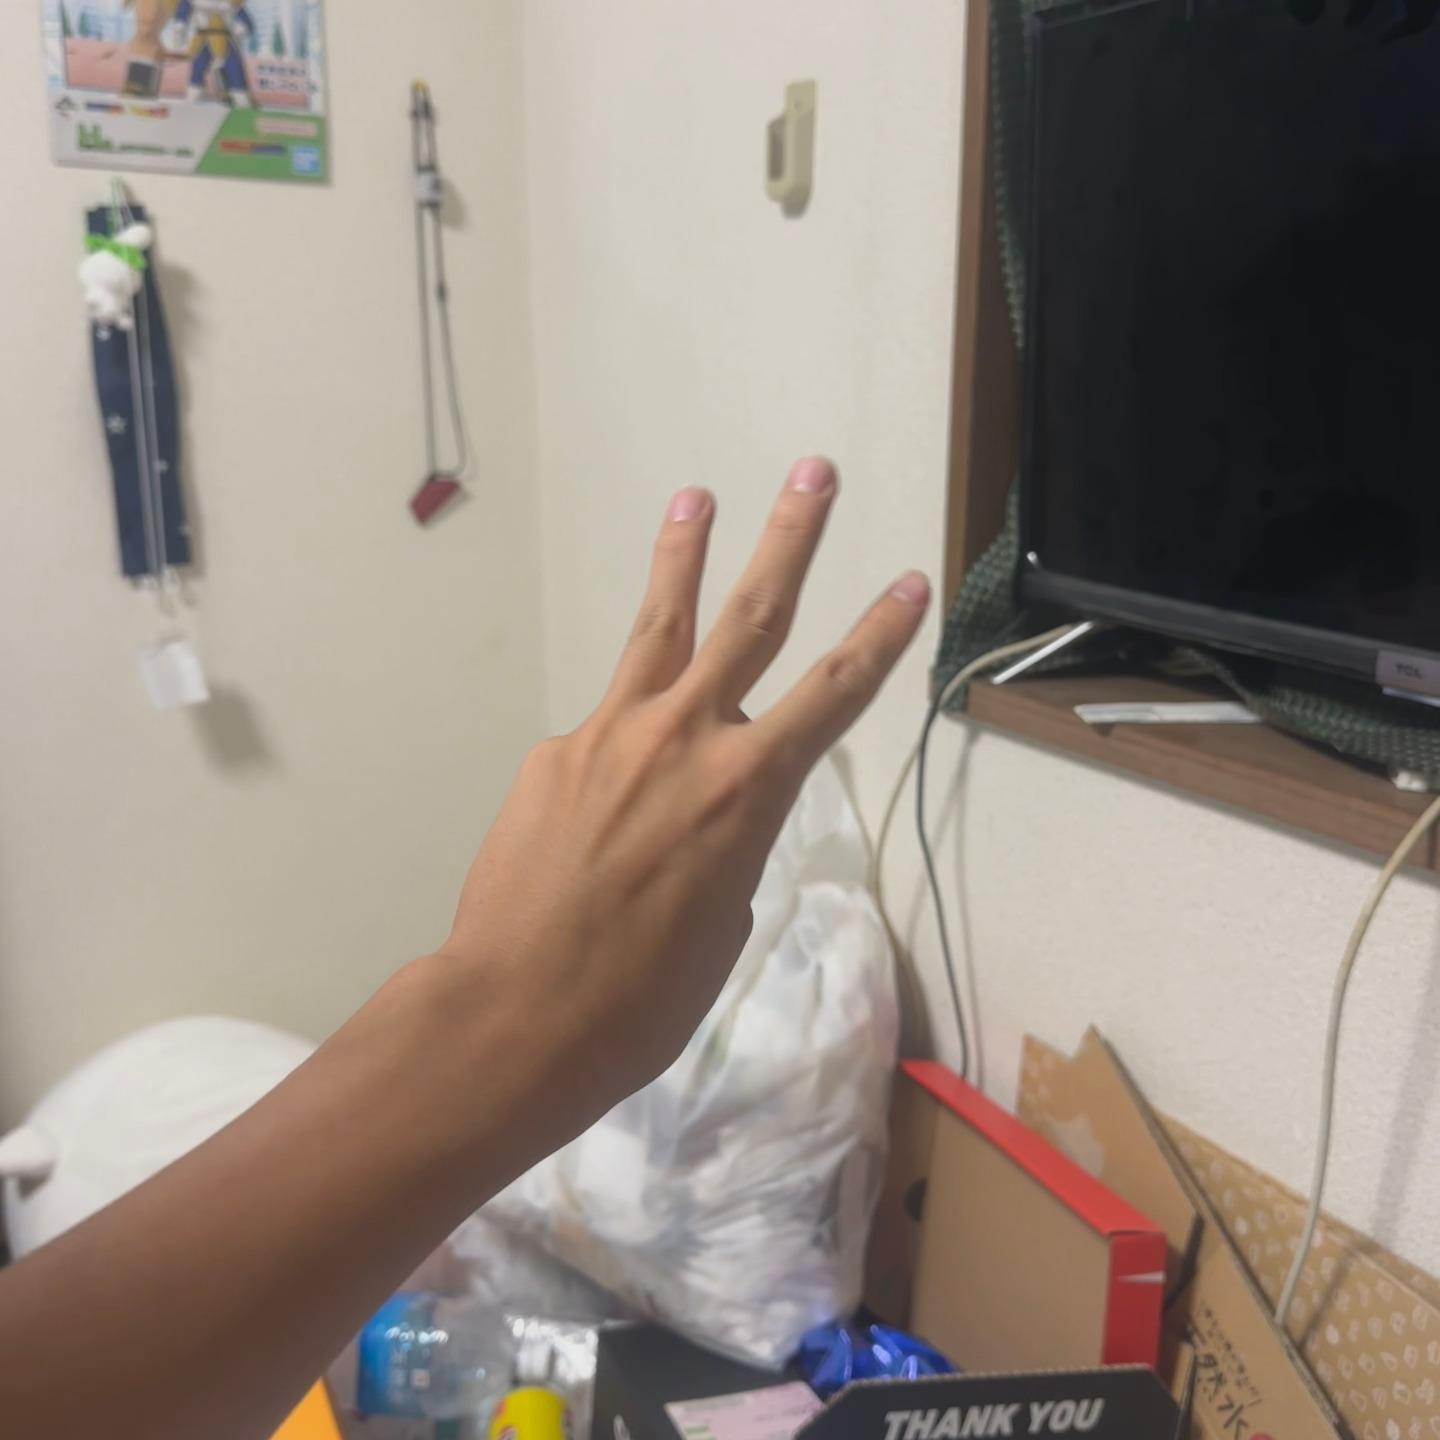without_gloves: (310, 390, 1141, 1398)
